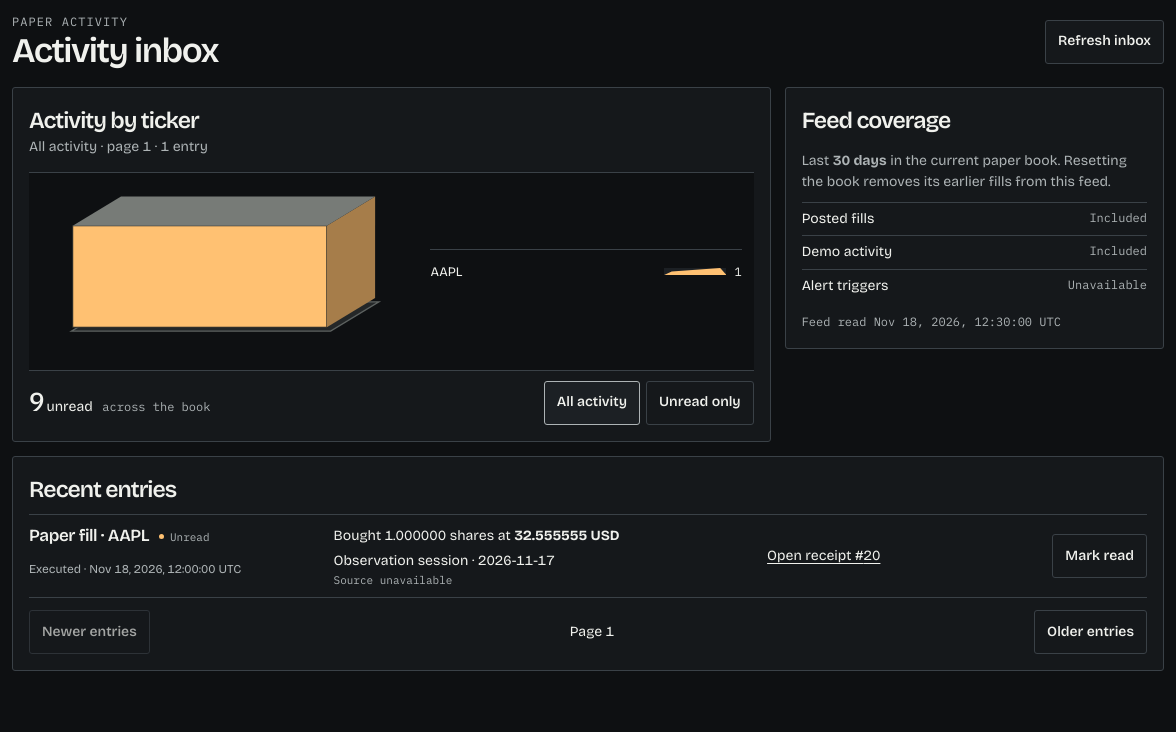
hides private entries after a permission failure and recovers by explicit retry
expect the heading "Paper fill · AAPL" is shown: met, box top-left (29, 524), bottom-right (149, 548)
Click the button "Refresh inbox".
click(1104, 42)  # box top-left (1045, 20), bottom-right (1164, 64)
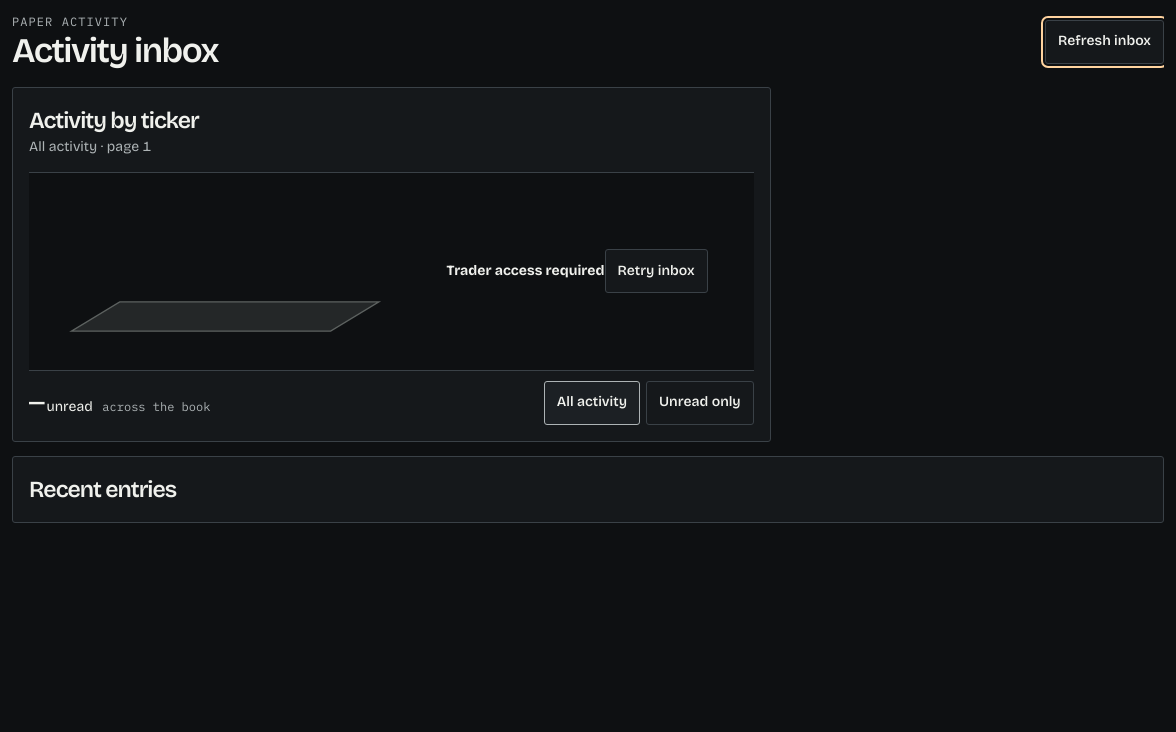
expect the text "Trader access required" is shown: met, box top-left (446, 262), bottom-right (604, 279)
expect the link "Open receipt #20" is gone: met
Click the button "Retry inbox".
click(656, 271)  # box top-left (604, 249), bottom-right (708, 293)
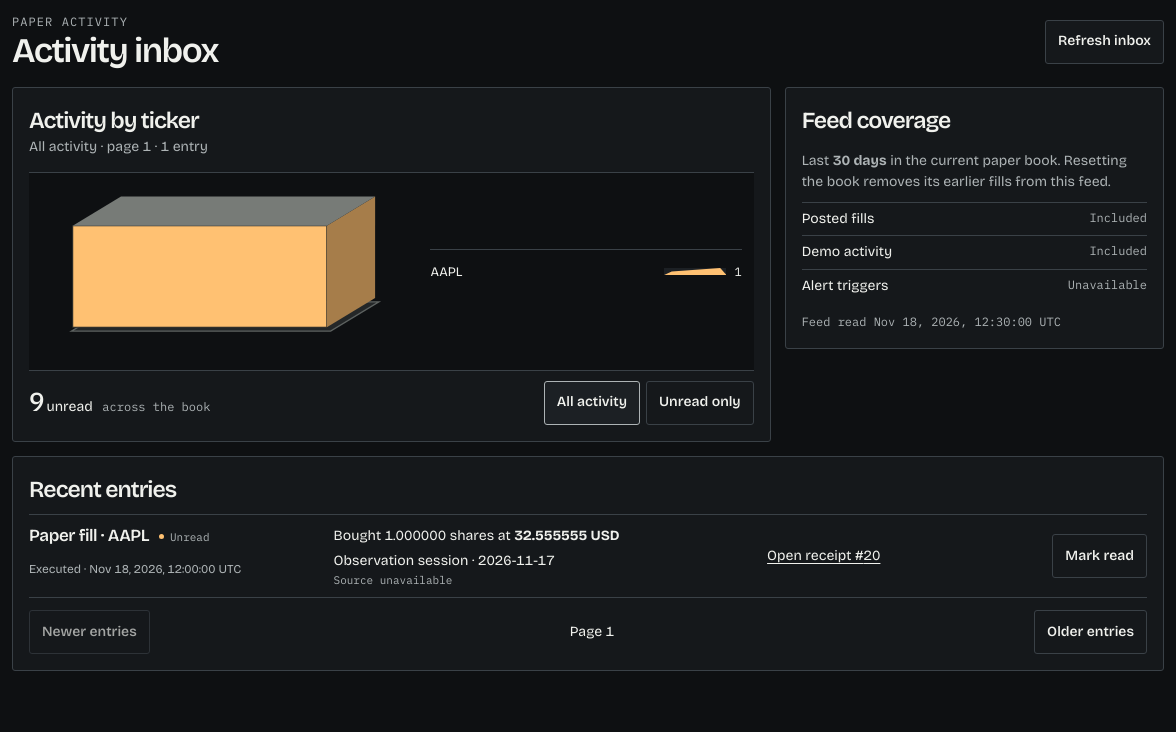
expect the heading "Paper fill · AAPL" is shown: met, box top-left (29, 524), bottom-right (149, 548)
